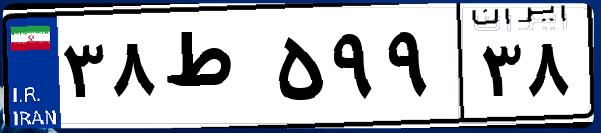3: (57, 26, 110, 100), (475, 38, 525, 113)
5: (270, 28, 330, 110)
8: (525, 38, 570, 115), (110, 28, 158, 98)
9: (385, 28, 445, 110), (330, 28, 385, 110)
ط: (158, 20, 270, 120)
